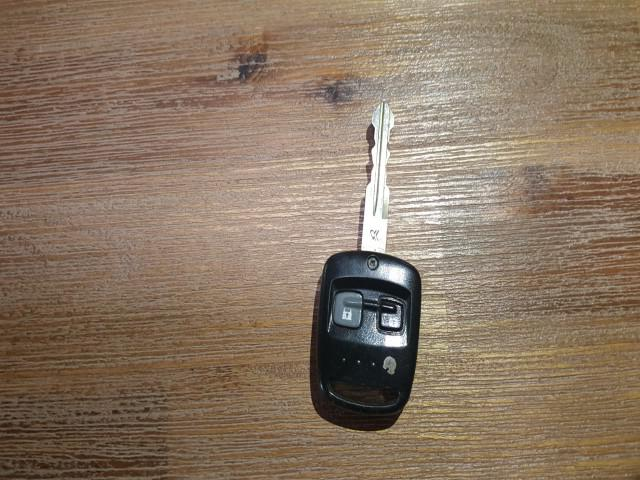key: (316, 101, 424, 424)
